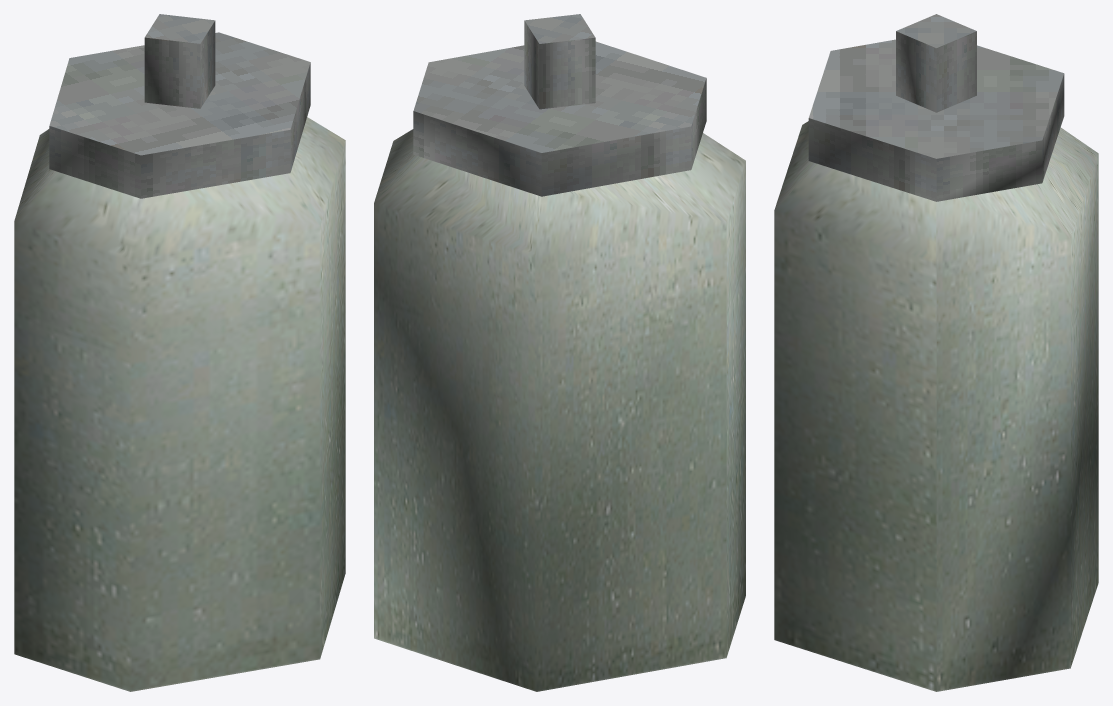
The model's file is edb_con_tato_jar_funk_s01_l1.fbx.
The picture shows the model from 3 angles, left to right: view 1: azimuth 30°, elevation 25°; view 2: azimuth 150°, elevation 25°; view 3: azimuth 270°, elevation 25°; orthographic projection.
Parts seen in each view (by area): view 1: mesh_node; view 2: mesh_node; view 3: mesh_node.
Boxes of the visible parts, x1,y1,x2,y2 form: mesh_node: [14, 14, 345, 691]; mesh_node: [374, 14, 745, 691]; mesh_node: [774, 14, 1098, 691].
Bounding box in the file's own units: 0.2 × 0.3375 × 0.1707.
Materials: 3 (3 with a texture image).
